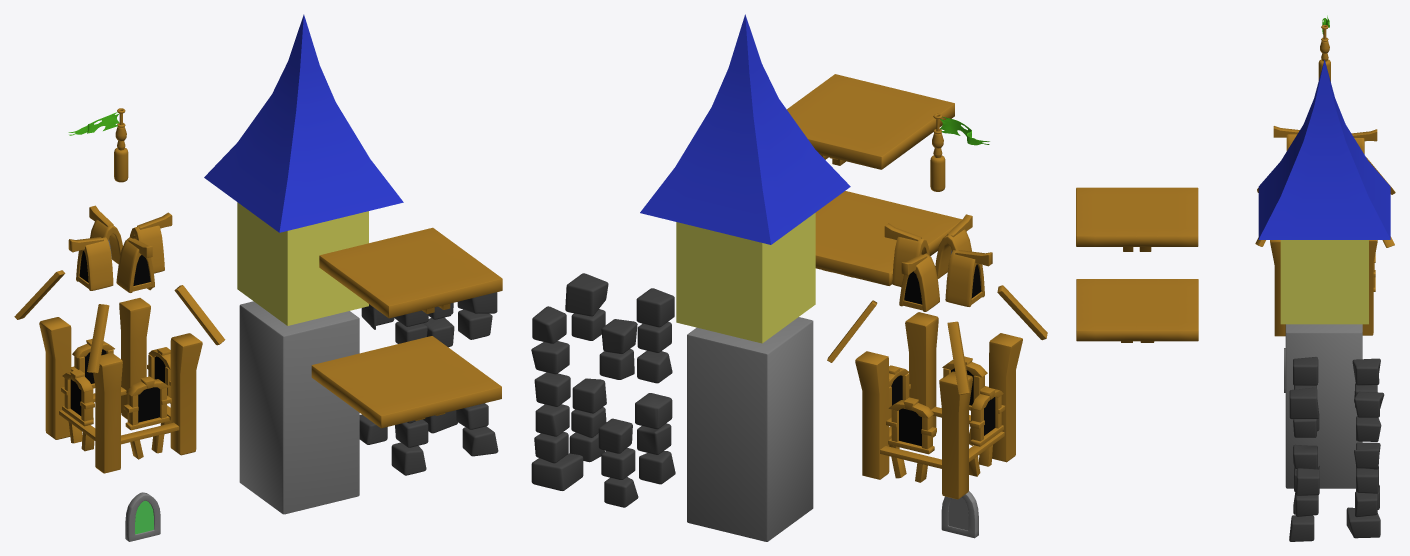
File: MainTower.fbx
The picture shows the model from 3 angles, left to right: view 1: azimuth 30°, elevation 25°; view 2: azimuth 150°, elevation 25°; view 3: azimuth 270°, elevation 25°; orthographic projection. The views are drawn at different scales.
Visible parts, largest first — view 1: MainTower; view 2: MainTower; view 3: MainTower.
Boxes of the visible parts, x1,y1,x2,y2 form: MainTower: [14, 14, 502, 541]; MainTower: [531, 14, 1047, 541]; MainTower: [1076, 15, 1395, 541].
Bounding box in the file's own units: 2348 × 2498 × 1743.
